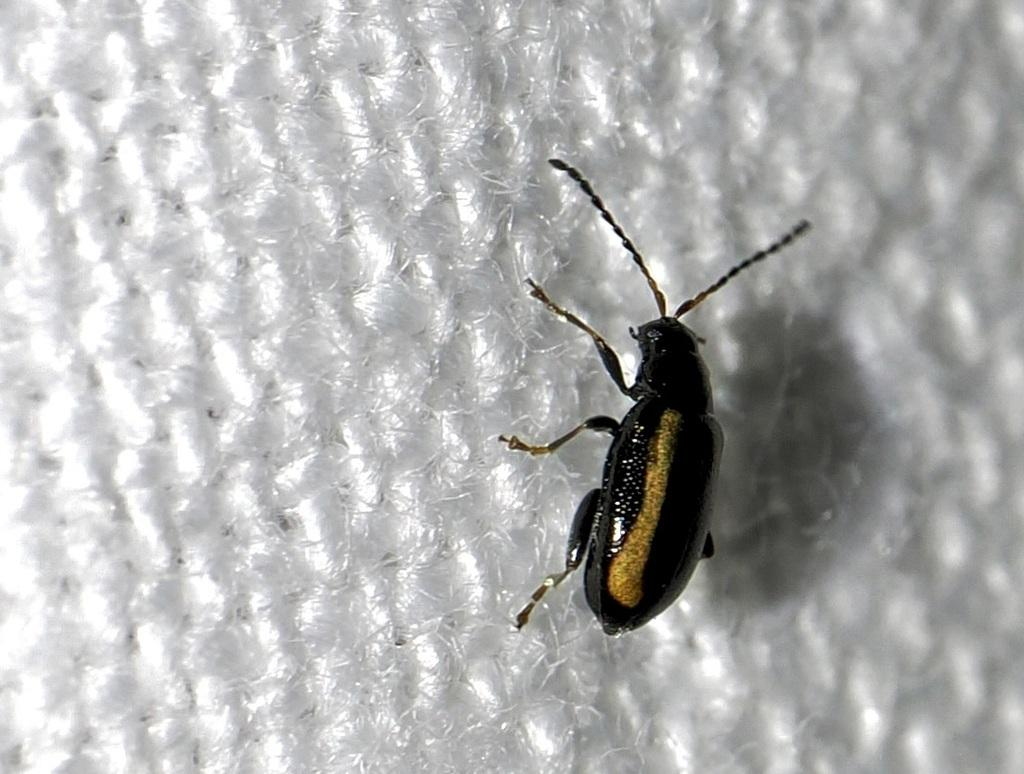flea_beetle: (448, 102, 843, 688)
